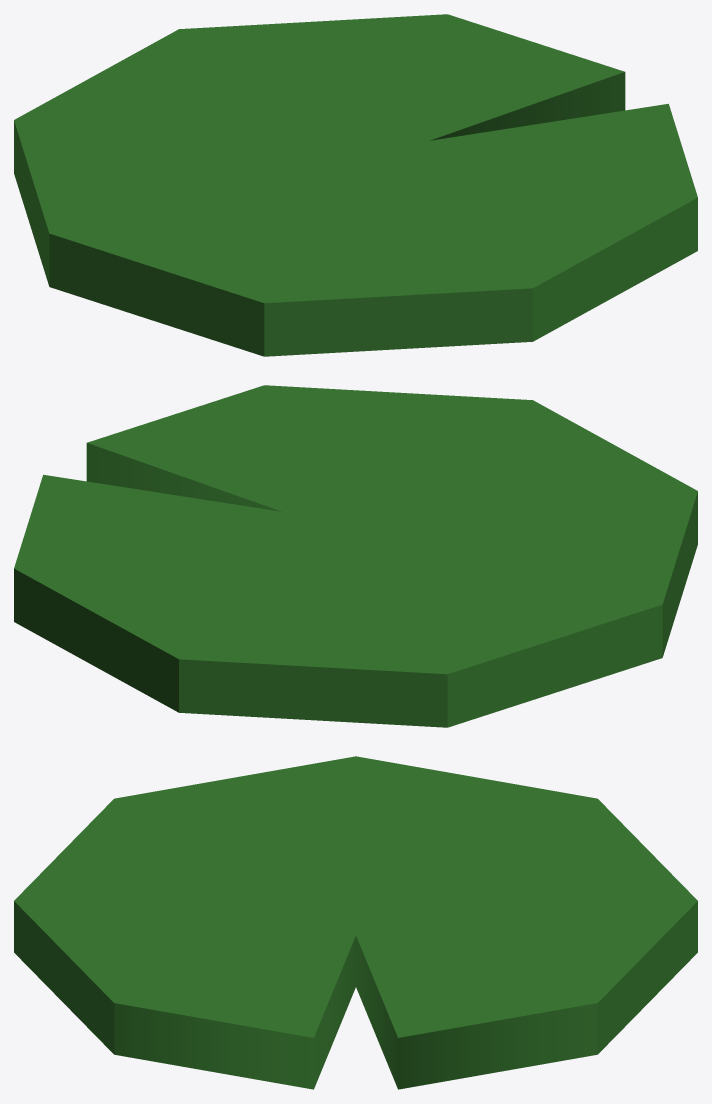
File: Dandelion_Nenuphar_Clair.FBX
3 renders of one model, top to bottom at view 1: azimuth 30°, elevation 25°; view 2: azimuth 150°, elevation 25°; view 3: azimuth 270°, elevation 25°, orthographic. The views are drawn at different scales.
Parts seen in each view (by area): view 1: Cylinder041; view 2: Cylinder041; view 3: Cylinder041.
Part boxes in pixels (x1,y1,x2,y2): Cylinder041: (14,14,697,356); Cylinder041: (14,385,697,727); Cylinder041: (14,756,697,1089).
Size of the model in its own units: 292 by 25 by 300.
